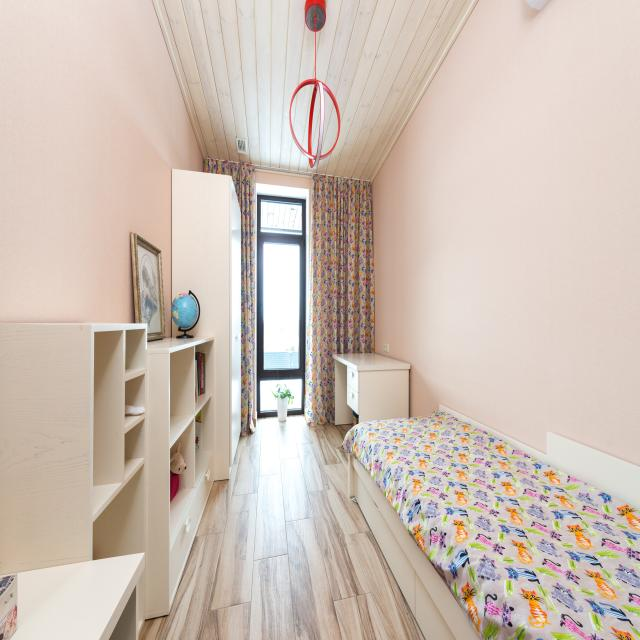floor: (138, 414, 427, 640)
wall: (370, 0, 640, 509), (254, 168, 311, 270)
